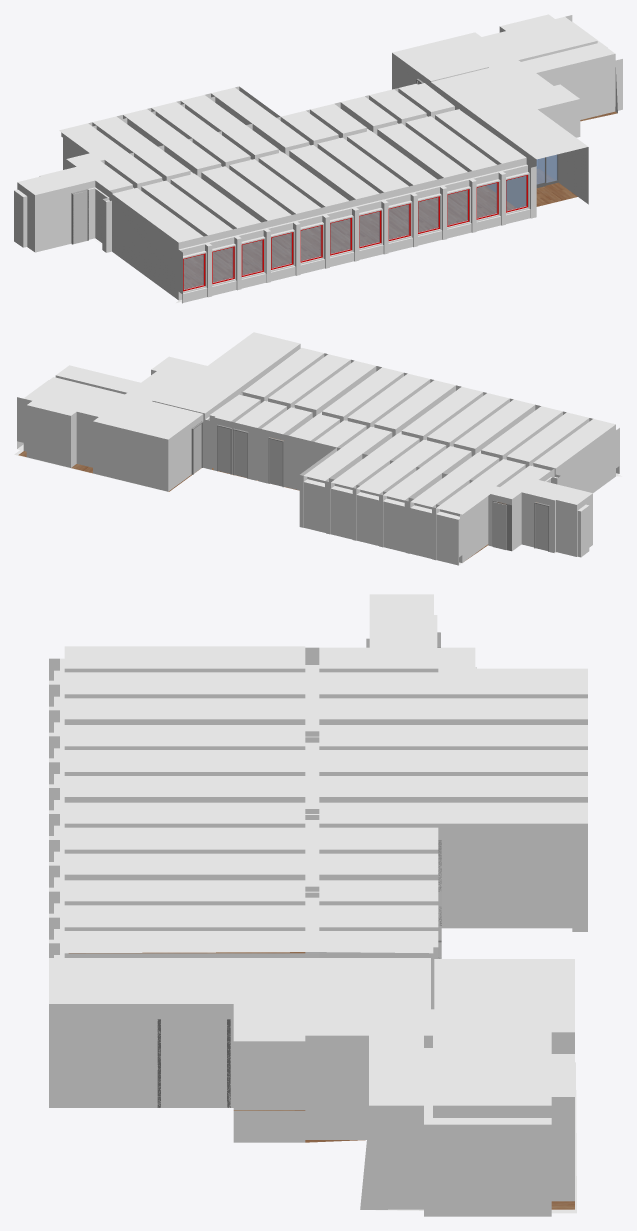
Rendered from clean model.fbx.
3 renders of one model, top to bottom at view 1: azimuth 30°, elevation 25°; view 2: azimuth 150°, elevation 25°; view 3: azimuth 270°, elevation 25°, orthographic. The views are drawn at different scales.
Parts seen in each view (by area): view 1: Mesh93; view 2: Mesh93; view 3: Mesh93.
Boxes of the visible parts, left/top/right/bottom form: Mesh93: left=14, top=14, right=622, bottom=303; Mesh93: left=14, top=332, right=621, bottom=565; Mesh93: left=49, top=594, right=587, bottom=1216.
Size of the model in its own units: 3644 by 340 by 1593.
